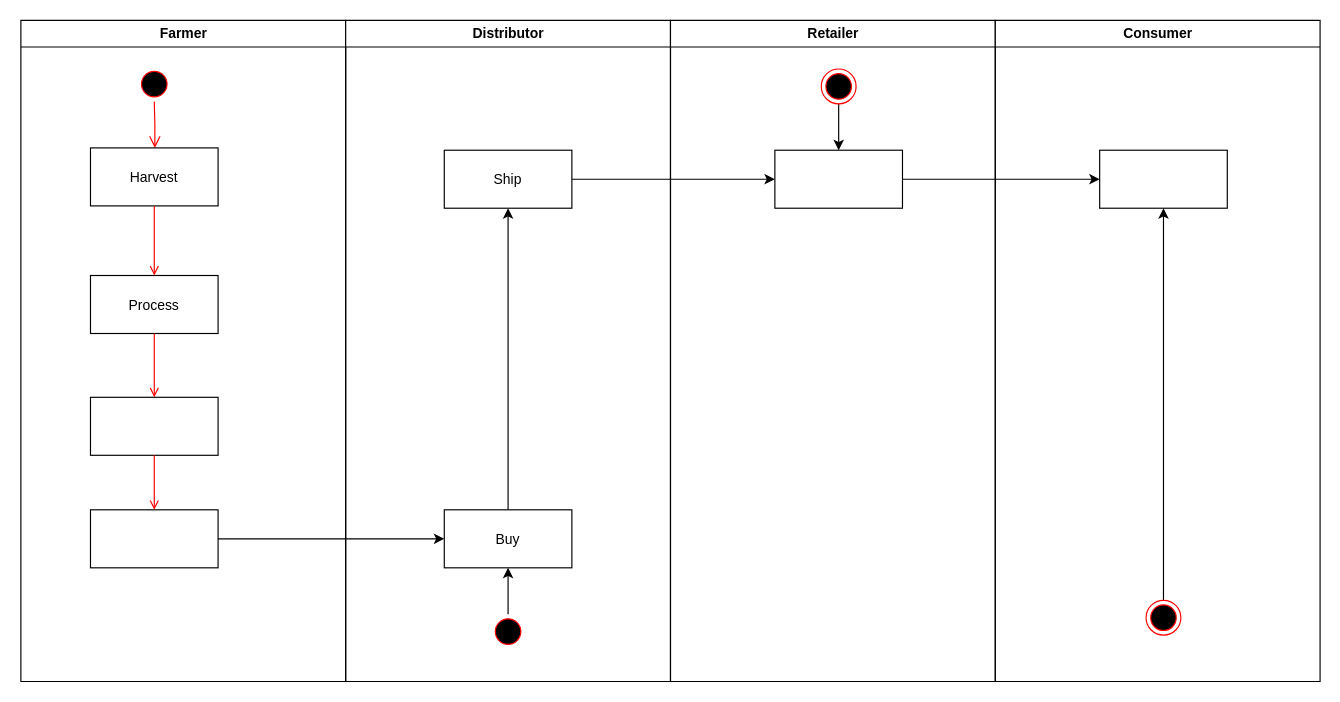
This 1340x702 diagram has some shape labels left out. Each missing label, with the box of its shape:
ForSale: (89, 509, 218, 568)
Pack: (89, 396, 218, 455)
Purchase: (1099, 149, 1227, 208)
Receive: (774, 149, 902, 208)
